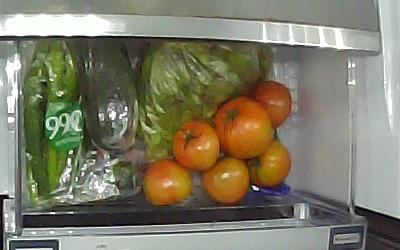tomato: (211, 94, 274, 159), (171, 117, 219, 170), (200, 154, 250, 204), (141, 157, 192, 205), (242, 138, 291, 187), (249, 79, 292, 128)
